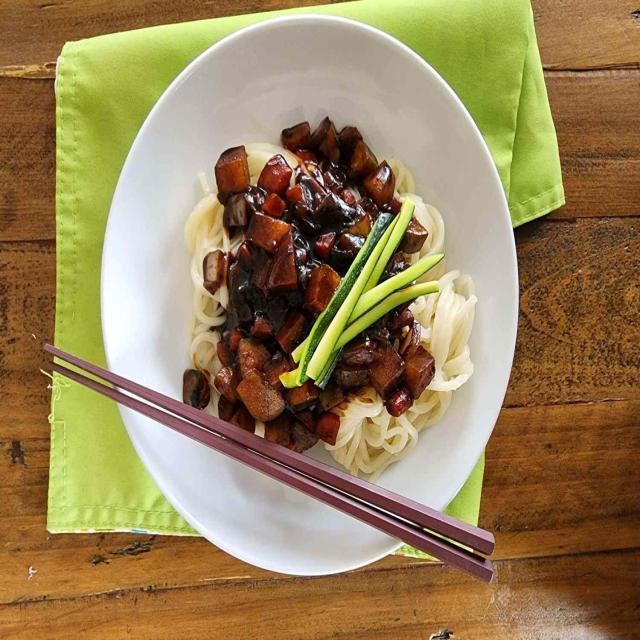cac loai rau cu: (280, 202, 443, 393)
mi jajangmyeon: (194, 131, 471, 481)
mi tuong den Jajangmyeon: (179, 116, 479, 483)
sot tuong den: (215, 153, 339, 456)
